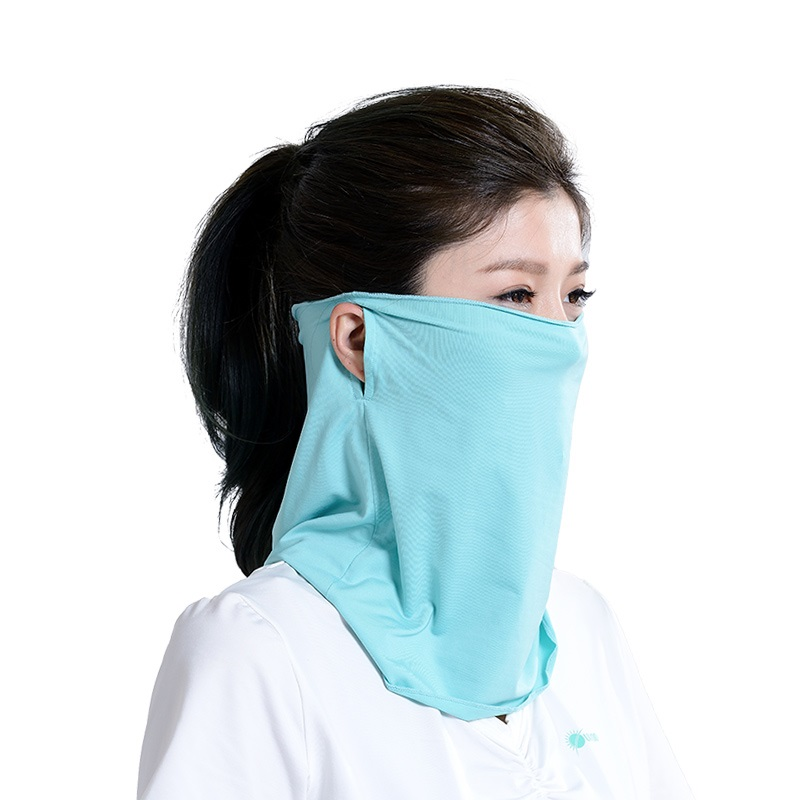face_mask: (401, 183, 590, 444)
